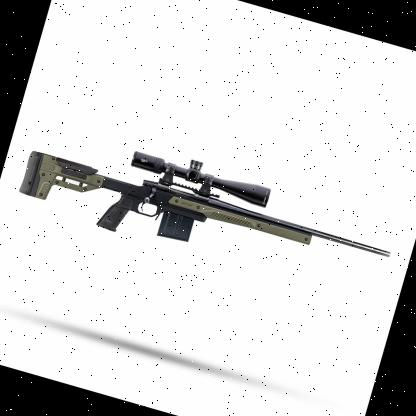rifle: (10, 118, 408, 312)
